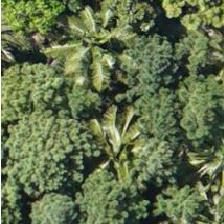Kelapa_Sawit: (47, 0, 137, 90), (69, 97, 159, 187)
